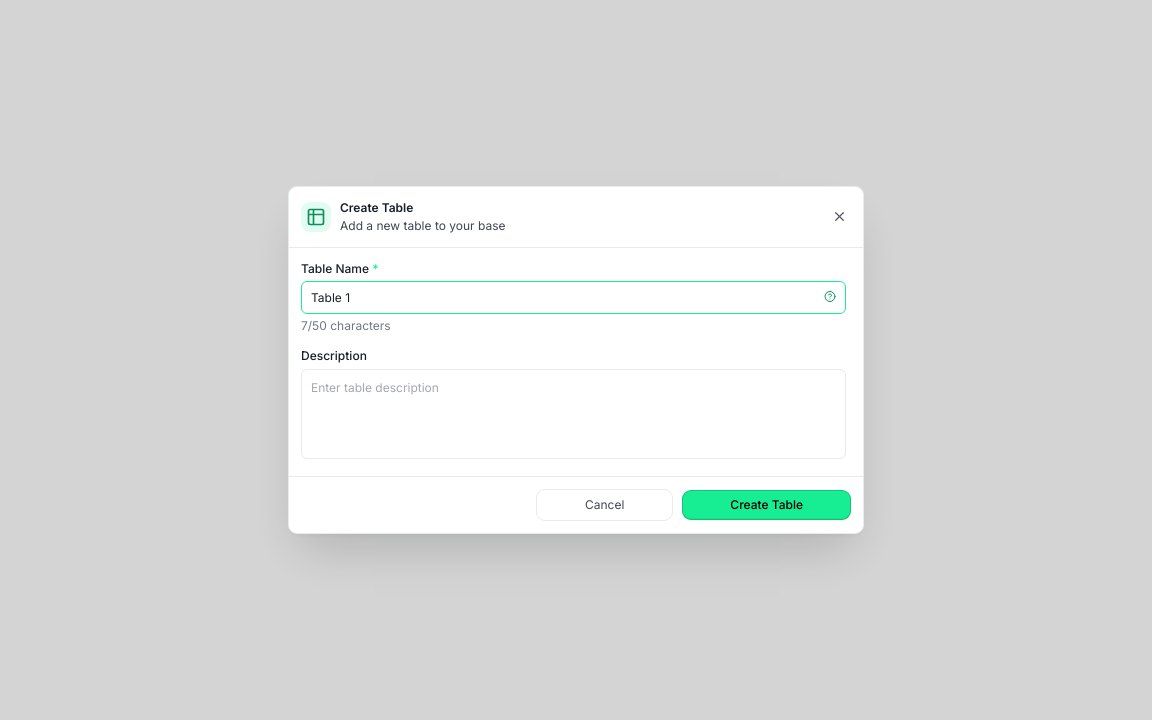
CreateTableModal › shows required error when submitting with empty name
Clear the field labelled "Table Name *" at (573, 297), box [301, 281, 846, 314]
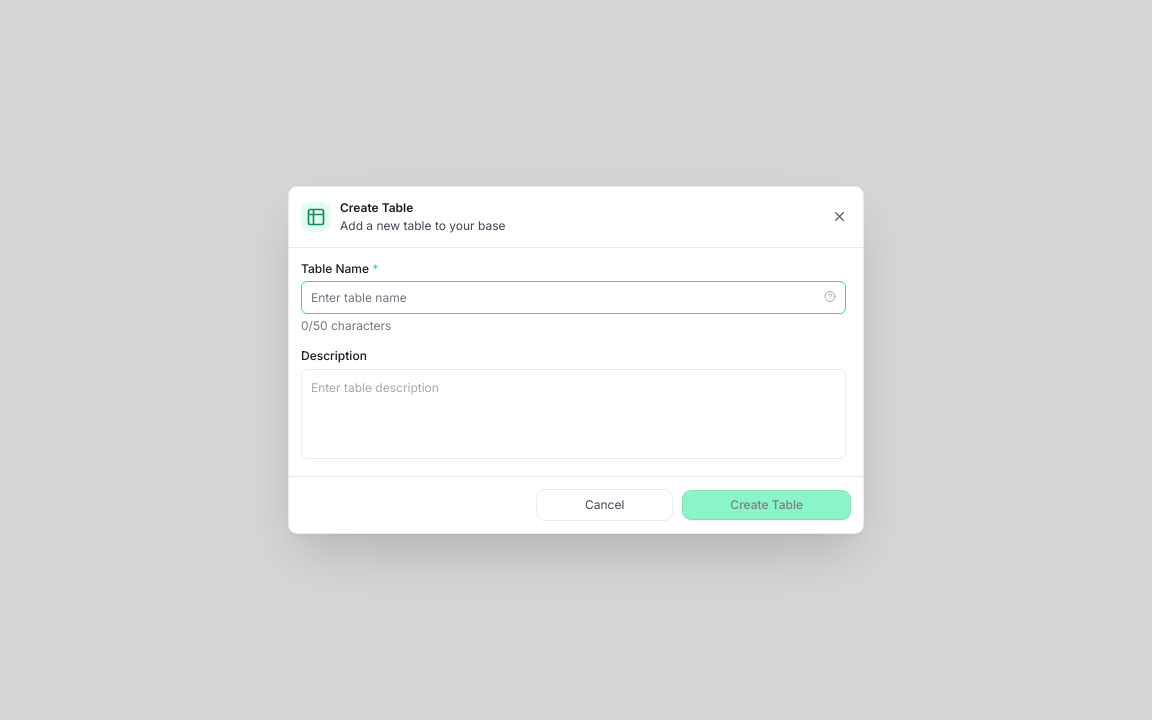
Submit the form with id "create-table-form", box [289, 248, 863, 476]
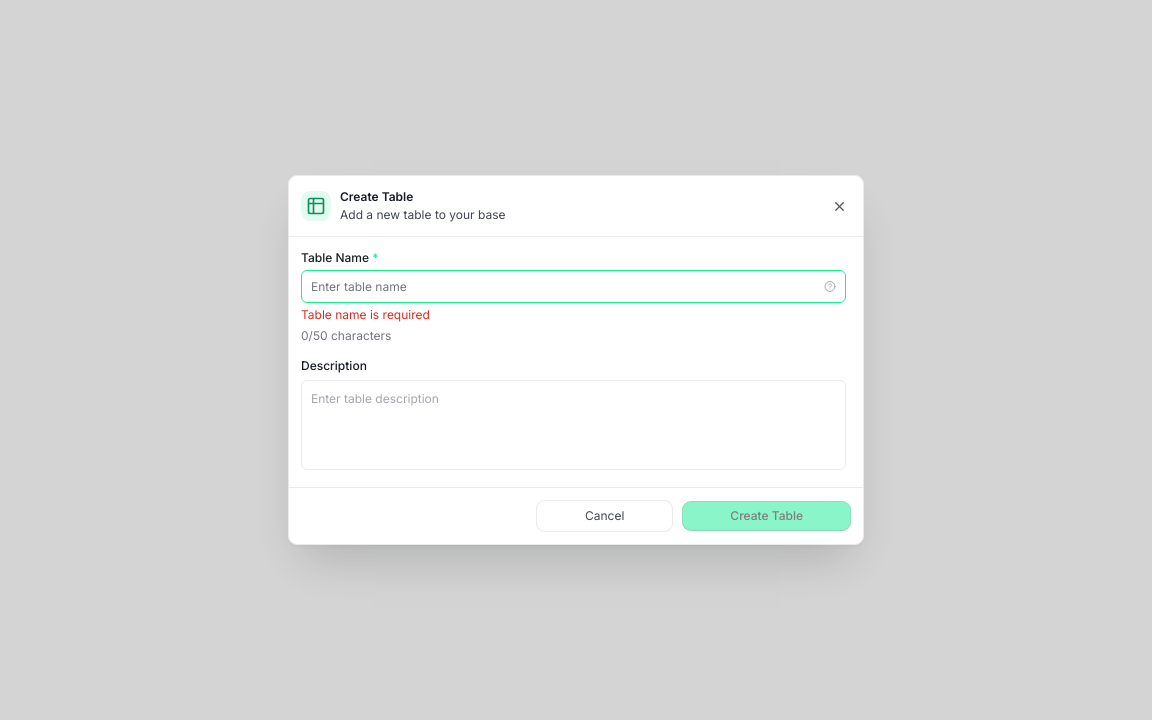
Expected: the text "Table name is required" is shown, [301, 307, 430, 322]
